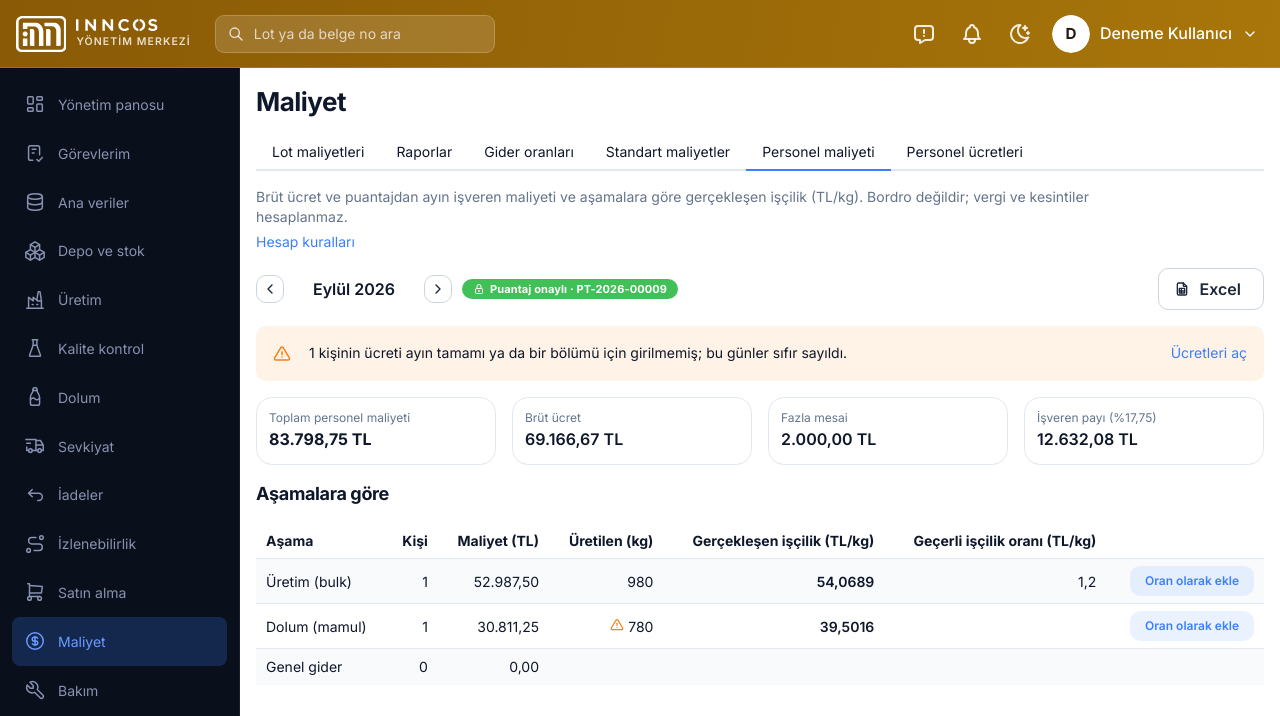
Scenario: personel maliyeti › ayın özetini, aşamaları ve kişileri gösterir; ay değiştirilir
Expected: the text "83.798,75 TL" is shown, [269,429,372,449]
Expected: the text "Eylül 2026" is shown, [313,279,395,299]
Click the button named "Önceki ay". click: click(270, 289)
box: [256,275,284,303]
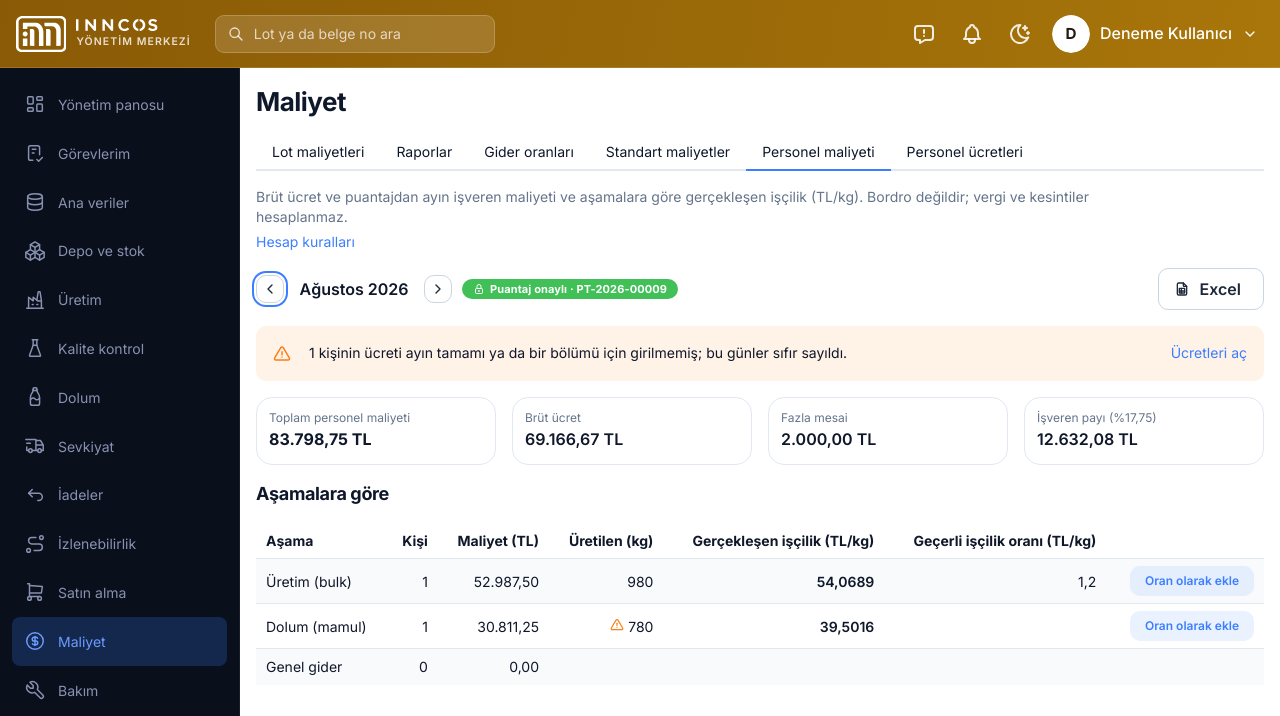
Expected: the text "Ağustos 2026" is shown, [294,277,414,301]
